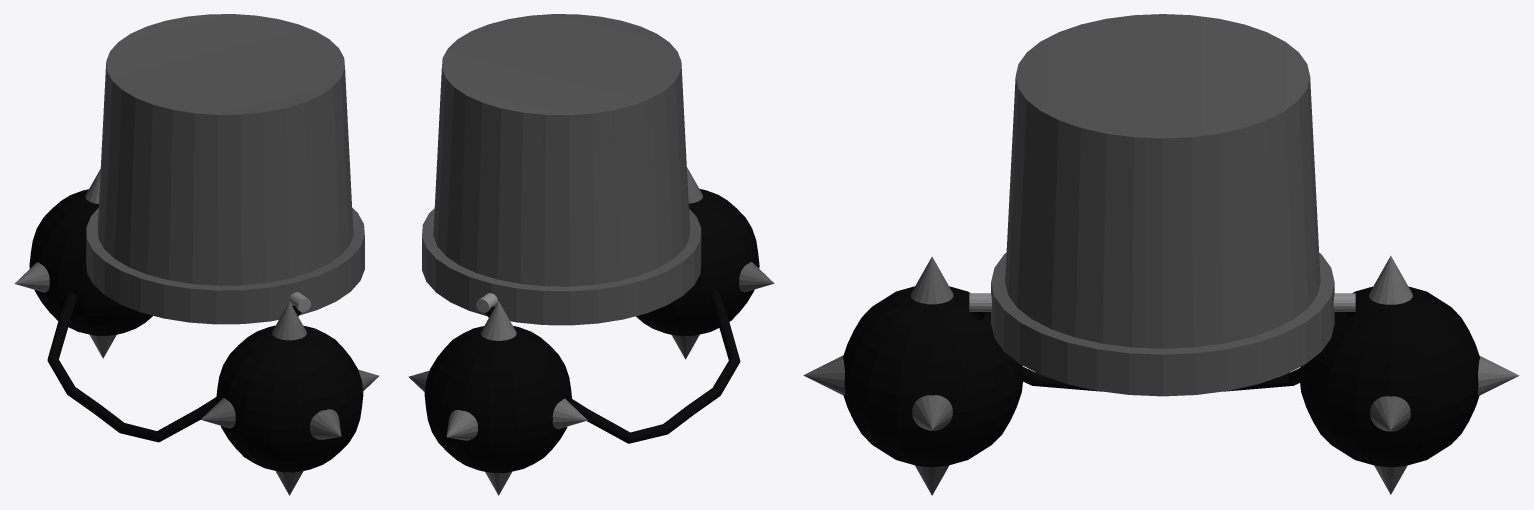
File: MegaKnightEggSkin.fbx
3 views of the same model, side by side, from view 1: azimuth 30°, elevation 25°; view 2: azimuth 150°, elevation 25°; view 3: azimuth 270°, elevation 25° (orthographic). The views are drawn at different scales.
Visible parts, largest first — view 1: BuckedHelmet, BuckedHelmet.001, BuckedHelmet.002; view 2: BuckedHelmet, BuckedHelmet.002, BuckedHelmet.001; view 3: BuckedHelmet, BuckedHelmet.001, BuckedHelmet.002.
Part boxes in pixels (<box>): BuckedHelmet: <box>47,14,364,442</box>; BuckedHelmet.001: <box>200,301,379,495</box>; BuckedHelmet.002: <box>14,169,152,358</box>; BuckedHelmet: <box>422,14,740,443</box>; BuckedHelmet.002: <box>408,301,587,495</box>; BuckedHelmet.001: <box>636,167,774,359</box>; BuckedHelmet: <box>969,14,1355,396</box>; BuckedHelmet.001: <box>803,256,1023,495</box>; BuckedHelmet.002: <box>1299,256,1519,494</box>.
Size of the model in its own units: 229 by 306 by 454.
